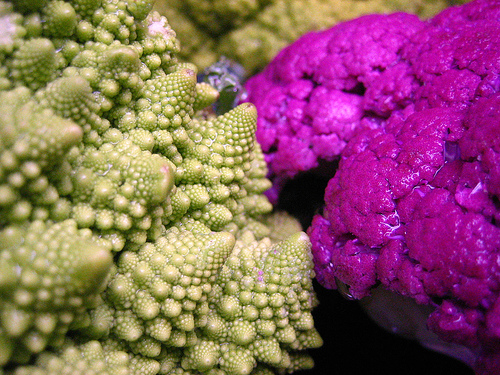cauliflower: (0, 3, 325, 374), (305, 0, 499, 374)
